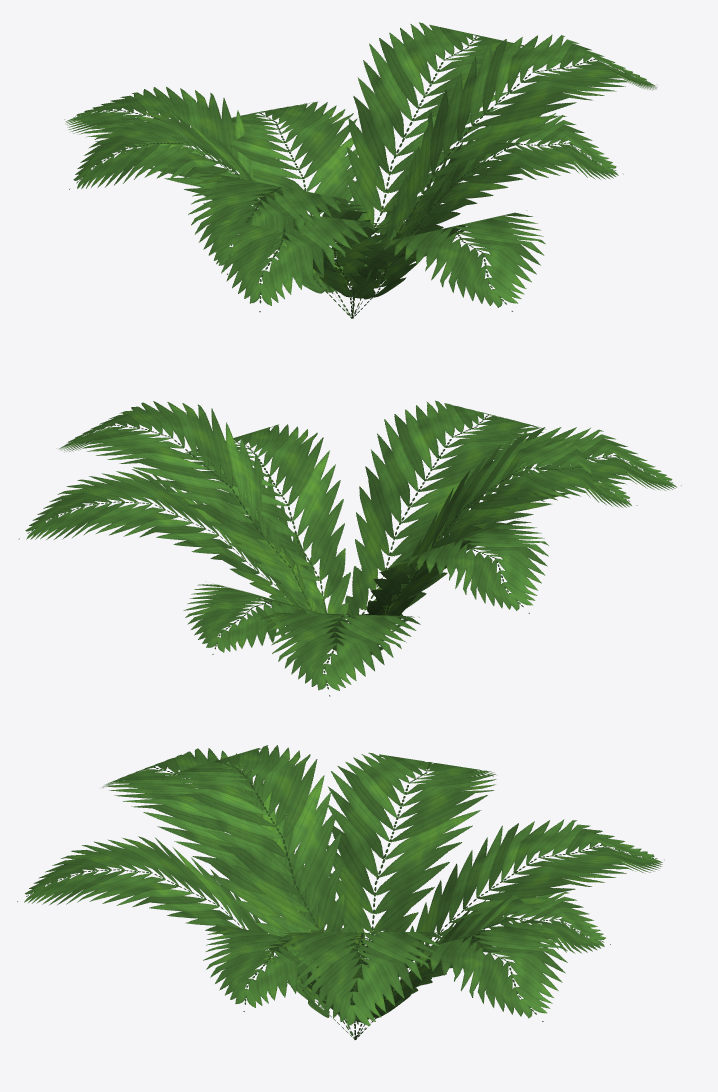
The model's file is fern_cluster.glb.
3 renders of one model, top to bottom at view 1: azimuth 30°, elevation 25°; view 2: azimuth 150°, elevation 25°; view 3: azimuth 270°, elevation 25°, orthographic. The views are drawn at different scales.
Visible parts, largest first — view 1: FernFronds; view 2: FernFronds; view 3: FernFronds.
Boxes of the visible parts, x1,y1,x2,y2 form: FernFronds: [64, 22, 656, 318]; FernFronds: [18, 400, 681, 696]; FernFronds: [17, 745, 664, 1039].
Bounding box in the file's own units: 1.94 × 0.6402 × 2.
1 material, 1 textured.
